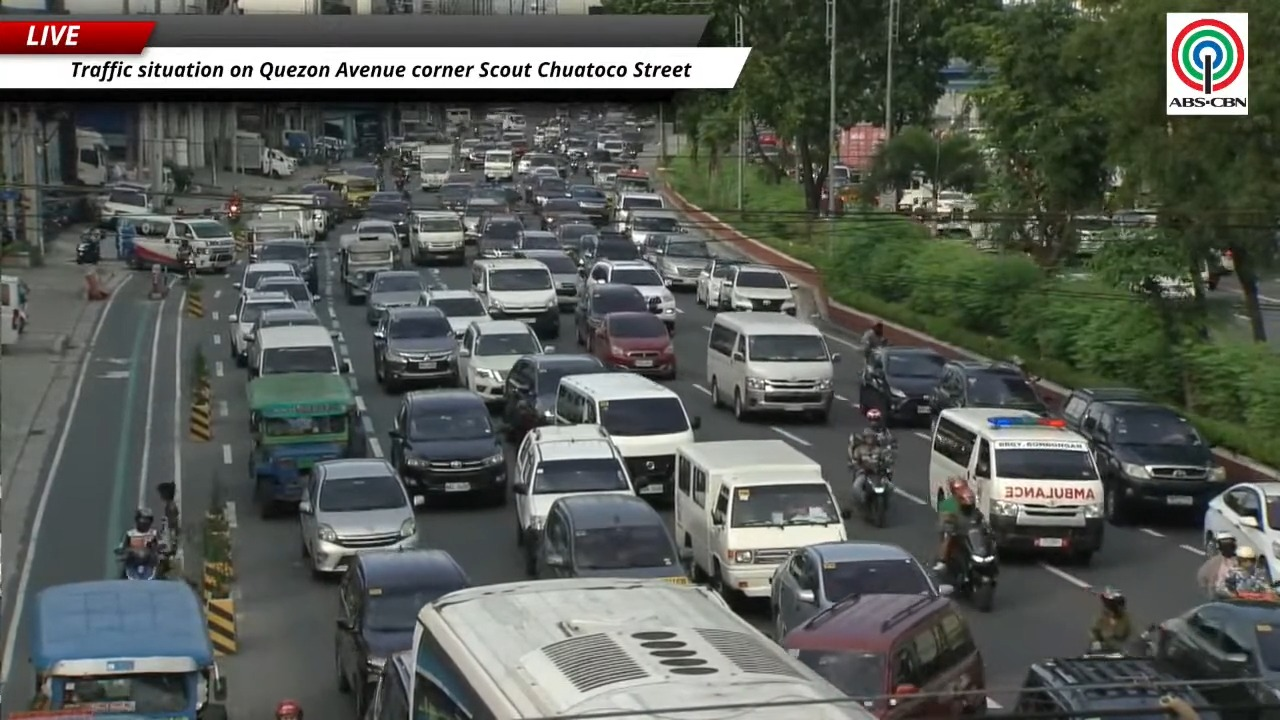bus: (410, 578, 873, 719)
car: (778, 594, 985, 719), (335, 548, 470, 716), (512, 424, 635, 576), (1079, 400, 1226, 523), (770, 541, 948, 636), (1147, 600, 1279, 716), (298, 458, 417, 575), (535, 493, 688, 584), (389, 389, 506, 504), (1013, 654, 1209, 717), (502, 354, 610, 441), (1203, 483, 1279, 579), (372, 306, 456, 391), (458, 320, 543, 403), (859, 346, 946, 423), (930, 360, 1047, 417), (583, 260, 676, 330), (589, 310, 676, 379), (575, 283, 652, 352), (227, 291, 296, 366), (515, 246, 578, 310), (1058, 387, 1148, 431), (716, 264, 795, 314), (251, 240, 318, 295), (366, 270, 427, 325), (419, 290, 488, 338), (651, 235, 712, 289), (249, 308, 321, 343), (695, 257, 741, 309), (364, 198, 411, 246), (233, 261, 298, 295), (580, 230, 641, 266), (462, 195, 508, 241), (256, 276, 318, 308), (626, 210, 682, 245), (544, 215, 595, 251), (569, 184, 610, 224), (540, 198, 589, 231), (529, 168, 568, 207), (479, 214, 524, 243), (637, 233, 668, 268), (353, 218, 398, 242), (437, 182, 471, 212), (515, 231, 560, 251), (477, 236, 516, 258), (368, 190, 403, 205)
motorcycle: (947, 527, 998, 611), (853, 450, 894, 527), (122, 547, 158, 580), (76, 228, 102, 264), (226, 201, 240, 221)
truck: (339, 236, 400, 304), (230, 131, 296, 177), (75, 127, 109, 186), (419, 144, 456, 190), (282, 129, 314, 158), (444, 107, 472, 127)
